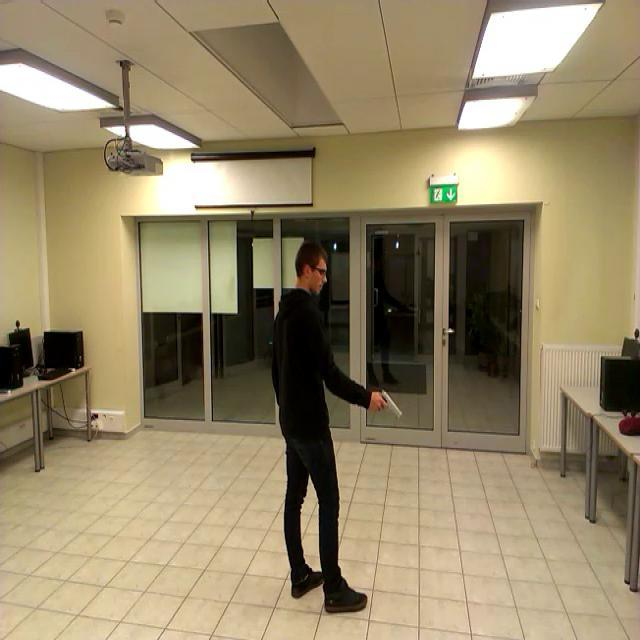Gun: (374, 388, 402, 418)
